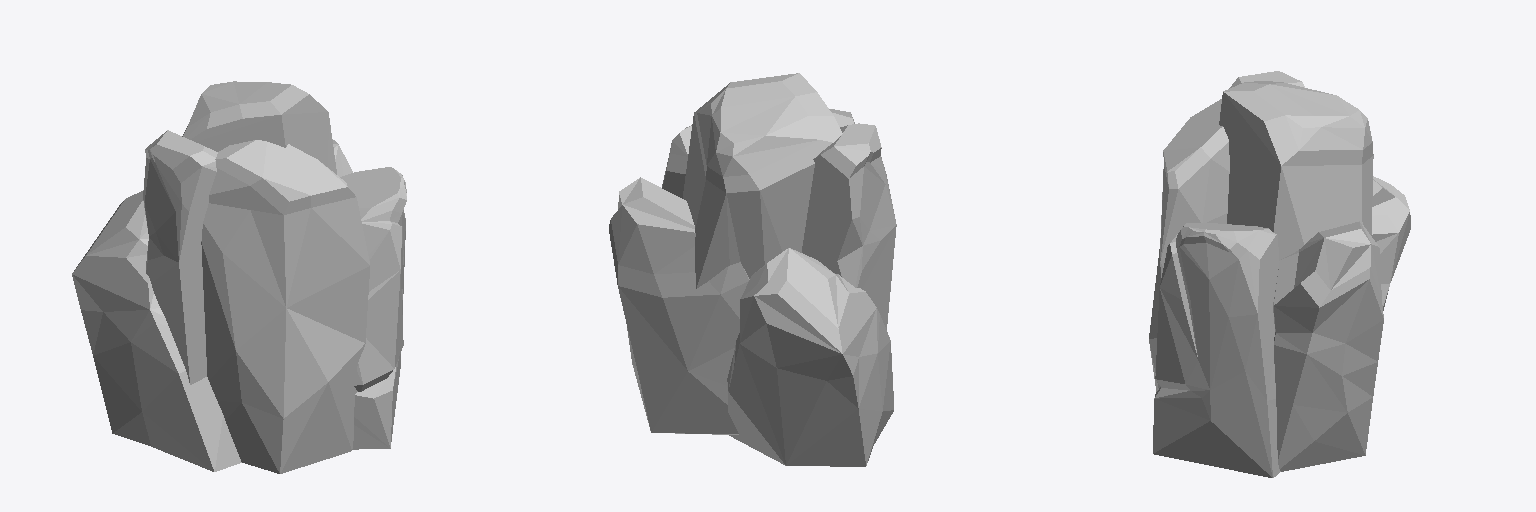
The model's file is Rock1.obj.
3 renders of one model, left to right at view 1: azimuth 30°, elevation 25°; view 2: azimuth 150°, elevation 25°; view 3: azimuth 270°, elevation 25°, orthographic.
Parts seen in each view (by area): view 1: PP_Rock_Pile_Forest_Moss_05.002; view 2: PP_Rock_Pile_Forest_Moss_05.002; view 3: PP_Rock_Pile_Forest_Moss_05.002.
Boxes of the visible parts, <box> form: PP_Rock_Pile_Forest_Moss_05.002: <box>72,81,406,473</box>; PP_Rock_Pile_Forest_Moss_05.002: <box>609,73,896,466</box>; PP_Rock_Pile_Forest_Moss_05.002: <box>1149,71,1410,477</box>.
Size of the model in its own units: 4.61 by 5.57 by 4.02.